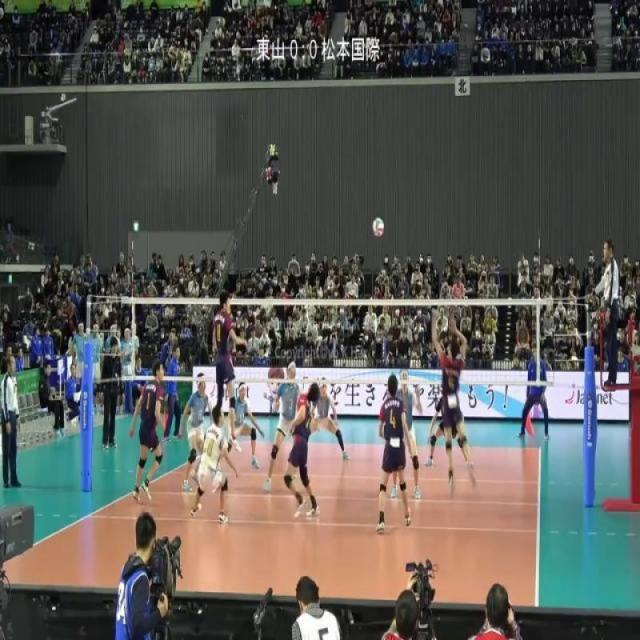volleyball: (372, 216, 385, 238)
